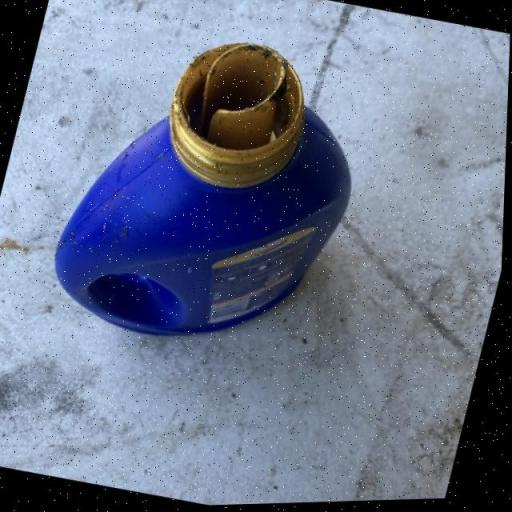plastic: (39, 10, 384, 372)
